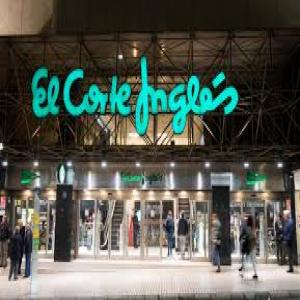corte_ingles: (28, 62, 241, 141)
